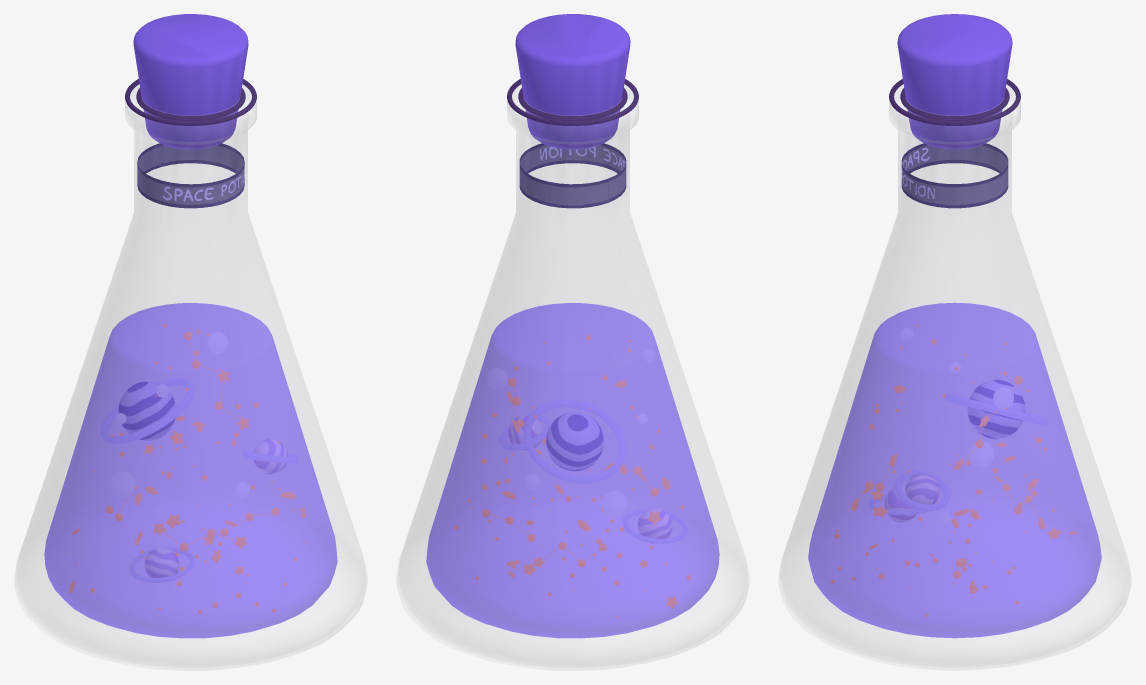
Rendered from potion-transformed.glb.
3 views of the same model, side by side, from view 1: azimuth 30°, elevation 25°; view 2: azimuth 150°, elevation 25°; view 3: azimuth 270°, elevation 25° (orthographic).
Visible parts, largest first — view 1: SpacePotion; view 2: SpacePotion; view 3: SpacePotion.
Part boxes in pixels (x1=…): SpacePotion: x1=15, y1=14, x2=366, y2=670; SpacePotion: x1=397, y1=14, x2=748, y2=670; SpacePotion: x1=779, y1=14, x2=1130, y2=670.
Bounding box in the file's own units: 2.1 × 3.74 × 2.1.
Materials: 10 (1 with a texture image).
